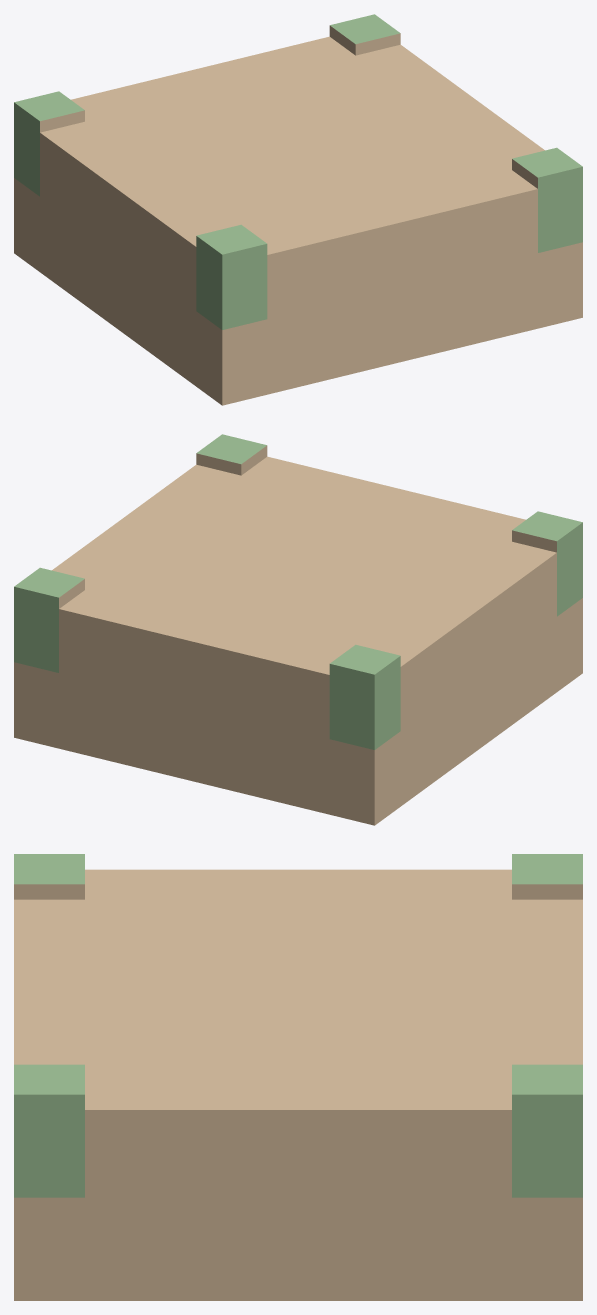
Rendered from tile.glb.
3 views of the same model, one above another, from view 1: azimuth 30°, elevation 25°; view 2: azimuth 150°, elevation 25°; view 3: azimuth 270°, elevation 25° (orthographic). The views are drawn at different scales.
Visible parts, largest first — view 1: tile; view 2: tile; view 3: tile.
Part boxes in pixels (left/top/right/bottom): tile: left=14, top=14, right=582, bottom=405; tile: left=14, top=434, right=582, bottom=825; tile: left=14, top=854, right=582, bottom=1300.
Size of the model in its own units: 1 by 0.4 by 1.
